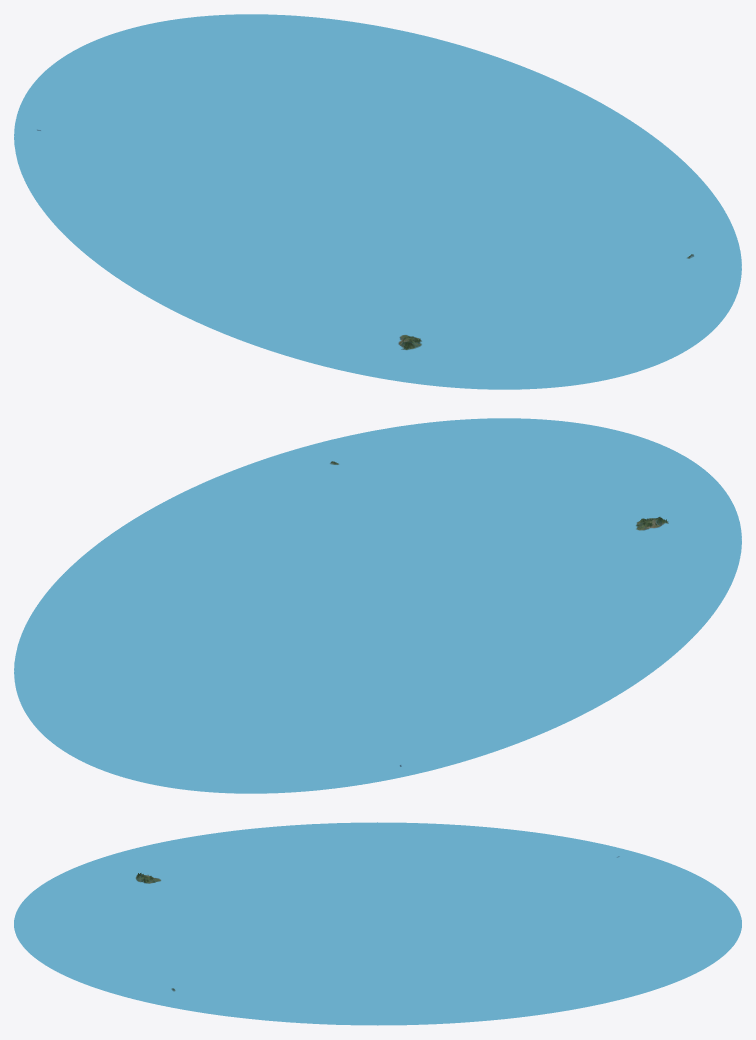
File: MUS-previa-terrain.glb
3 views of the same model, one above another, from view 1: azimuth 30°, elevation 25°; view 2: azimuth 150°, elevation 25°; view 3: azimuth 270°, elevation 25° (orthographic). The views are drawn at different scales.
Parts seen in each view (by area): view 1: Maurícia; view 2: Maurícia; view 3: Maurícia.
Boxes of the visible parts, x1,y1,x2,y2 form: Maurícia: [14, 14, 741, 389]; Maurícia: [14, 418, 741, 793]; Maurícia: [14, 822, 741, 1025].
Size of the model in its own units: 1.74 by 0.0152 by 2.64.
Materials: 1 (1 with a texture image).
